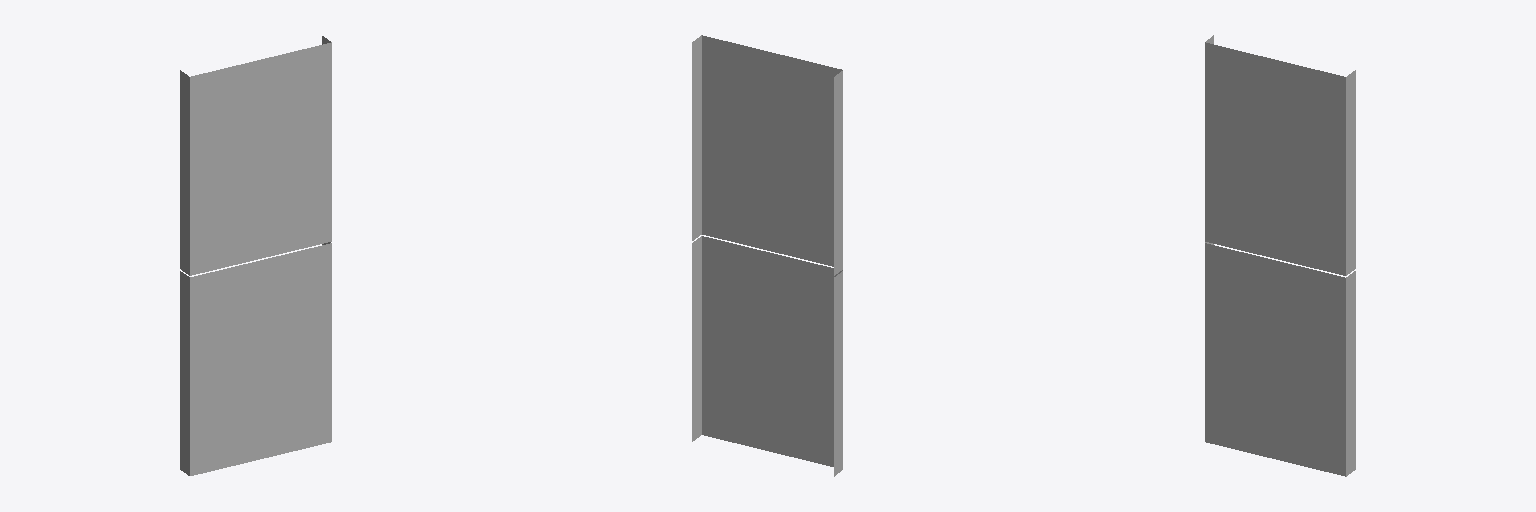
File: coversms.obj
3 views of the same model, side by side, from view 1: azimuth 30°, elevation 25°; view 2: azimuth 150°, elevation 25°; view 3: azimuth 330°, elevation 25° (orthographic).
Visible parts, largest first — view 1: covernes_covergb_cover.009; view 2: covernes_covergb_cover.009; view 3: covernes_covergb_cover.009.
Boxes of the visible parts, x1,y1,x2,y2 form: covernes_covergb_cover.009: [180, 36, 331, 475]; covernes_covergb_cover.009: [692, 35, 842, 476]; covernes_covergb_cover.009: [1205, 35, 1355, 476].
Bounding box in the file's own units: 1.57 × 4.21 × 0.1872.